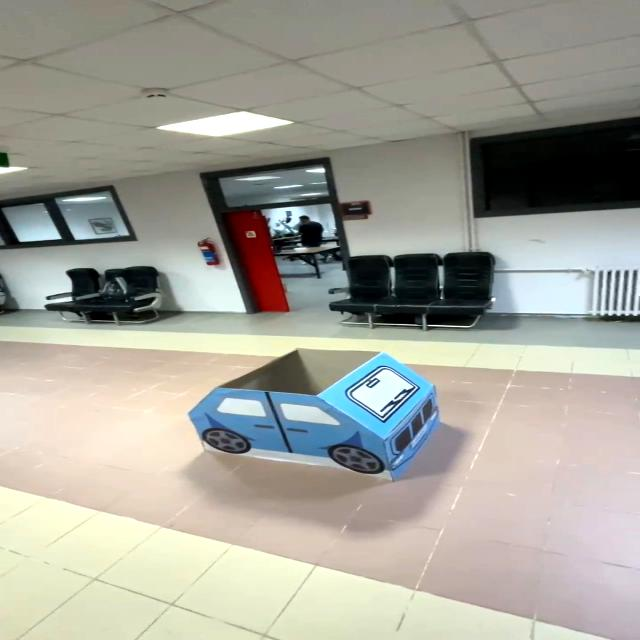blue_car: (185, 337, 455, 502)
